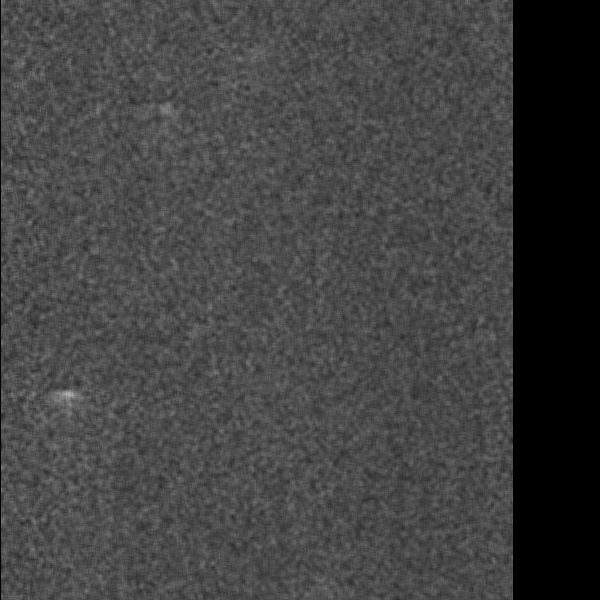spark: (45, 385, 85, 425)
